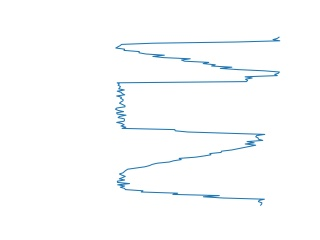distributaryChannelFill: (112, 72, 270, 144)
mouthBar: (112, 33, 286, 75)
underwaterDistributaryChannel: (113, 138, 268, 208)
